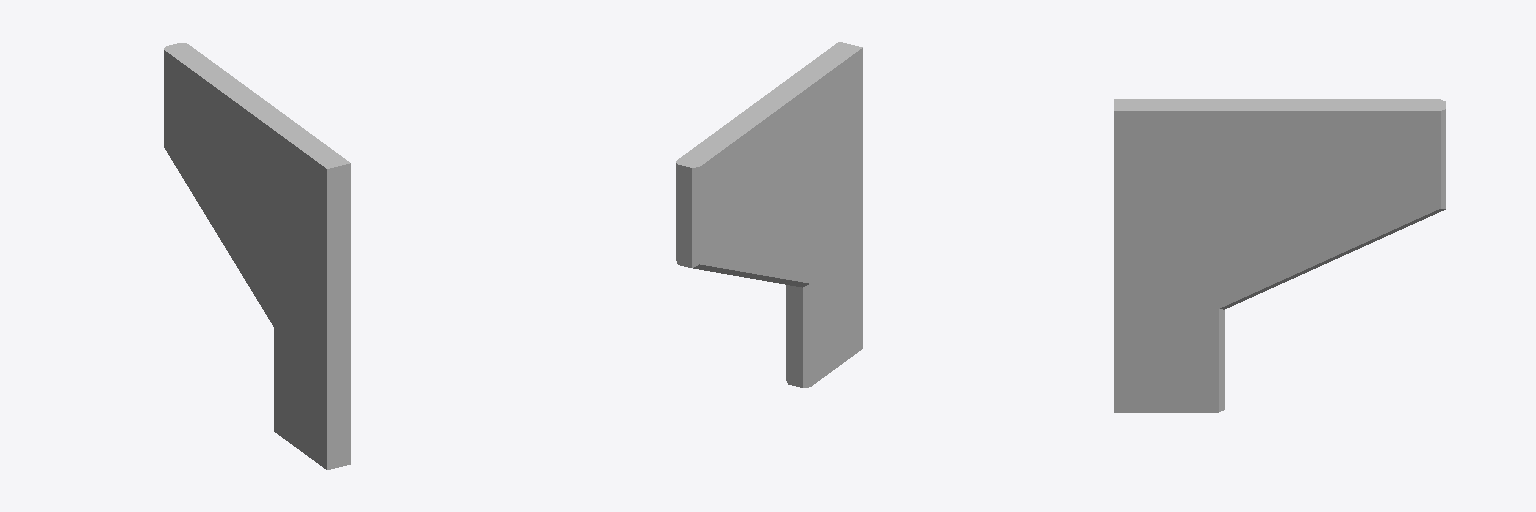
The model's file is mega_door-03-top_door.obj.
3 renders of one model, left to right at view 1: azimuth 30°, elevation 25°; view 2: azimuth 150°, elevation 25°; view 3: azimuth 270°, elevation 25°, orthographic.
Visible parts, largest first — view 1: Cube.001; view 2: Cube.001; view 3: Cube.001.
Part boxes in pixels (x1,y1,x2,y2): Cube.001: (164,43,350,469); Cube.001: (676,42,862,387); Cube.001: (1114,99,1445,412).
Bounding box in the file's own units: 0.5 × 6 × 6.